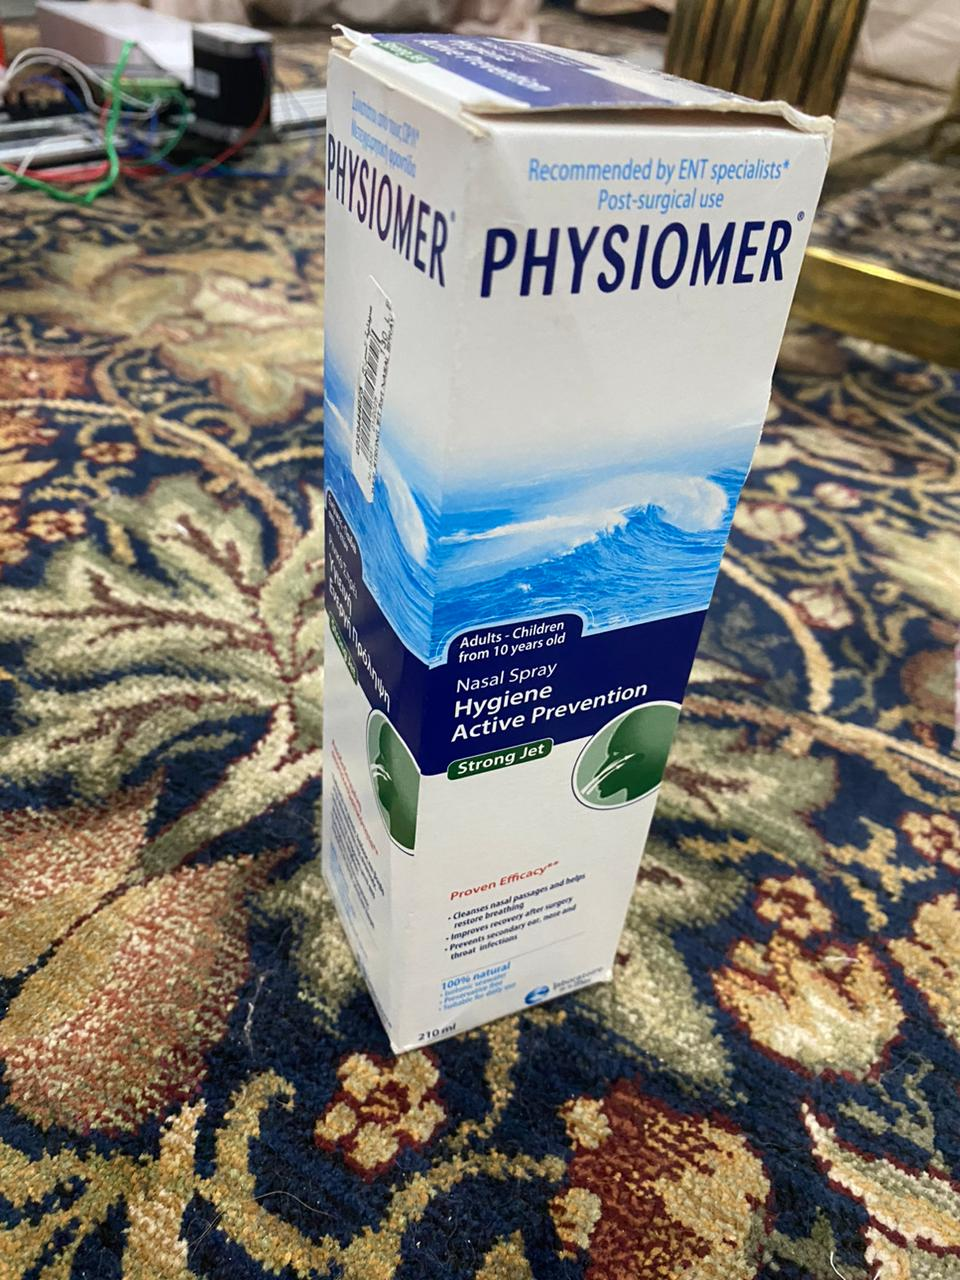Physiomer: (313, 23, 839, 1060)
